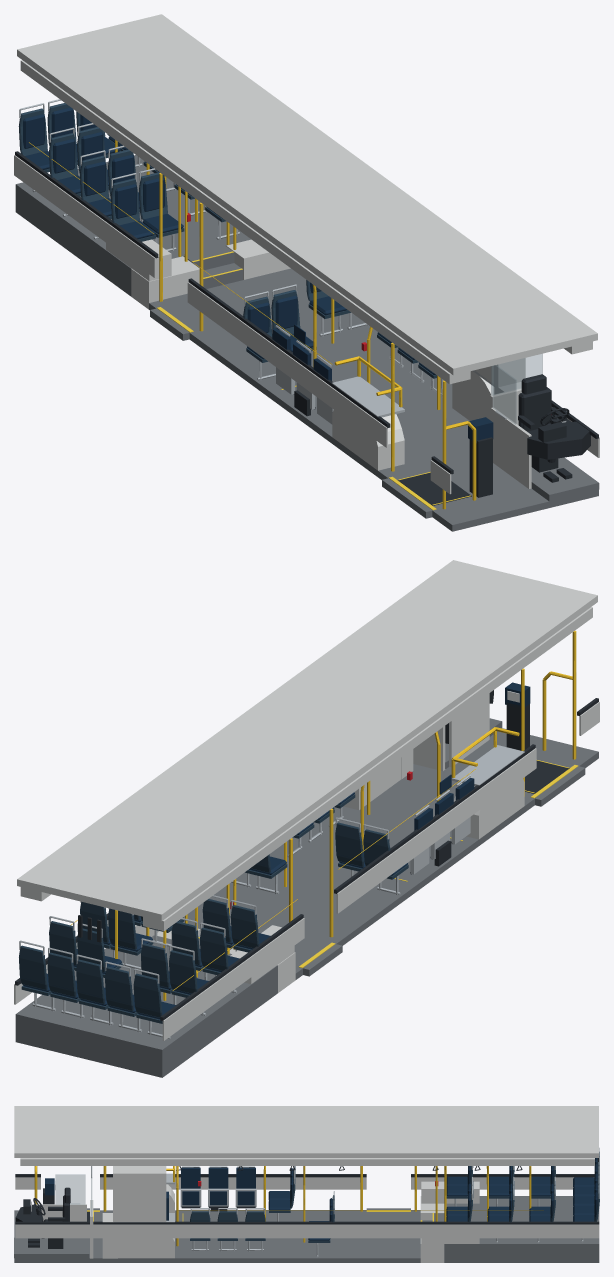
Rendered from city-bus-12m-interior-v2-runtime.lod0.glb.
The picture shows the model from 3 angles, top to bottom: view 1: azimuth 30°, elevation 25°; view 2: azimuth 150°, elevation 25°; view 3: azimuth 270°, elevation 25°; orthographic projection. The views are drawn at different scales.
Visible parts, largest first — view 1: interior-batch-panel, interior-batch-floor, interior-batch-seat, interior-batch-rubber, interior-batch-seat-shell, interior-batch-rail, interior-batch-metal, interior-batch-glass; view 2: interior-batch-panel, interior-batch-floor, interior-batch-seat-shell, interior-batch-metal, interior-batch-rubber, interior-batch-rail, interior-batch-seat; view 3: interior-batch-panel, interior-batch-floor, interior-batch-seat, interior-batch-rubber, interior-batch-seat-shell, interior-batch-rail, interior-batch-metal, interior-batch-glass.
Part boxes in pixels (<box>): interior-batch-panel: <box>14,14,599,494</box>; interior-batch-floor: <box>15,155,599,531</box>; interior-batch-seat: <box>23,107,493,443</box>; interior-batch-rubber: <box>15,151,598,505</box>; interior-batch-seat-shell: <box>18,103,436,378</box>; interior-batch-rail: <box>29,140,476,509</box>; interior-batch-metal: <box>19,99,566,424</box>; interior-batch-glass: <box>491,354,542,424</box>; interior-batch-panel: <box>14,560,599,1040</box>; interior-batch-floor: <box>15,718,598,1077</box>; interior-batch-seat-shell: <box>19,794,408,1023</box>; interior-batch-metal: <box>19,745,524,1039</box>; interior-batch-rubber: <box>15,690,598,1020</box>; interior-batch-rail: <box>70,630,576,1000</box>; interior-batch-seat: <box>23,682,530,1019</box>; interior-batch-panel: <box>14,1106,599,1262</box>; interior-batch-floor: <box>14,1196,599,1262</box>; interior-batch-seat: <box>45,1158,597,1240</box>; interior-batch-rubber: <box>15,1158,599,1248</box>; interior-batch-seat-shell: <box>190,1152,599,1242</box>; interior-batch-rail: <box>34,1166,543,1246</box>; interior-batch-metal: <box>70,1147,599,1257</box>; interior-batch-glass: <box>55,1174,91,1215</box>.
Bounding box in the file's own units: 2.43 × 2.44 × 11.88.
